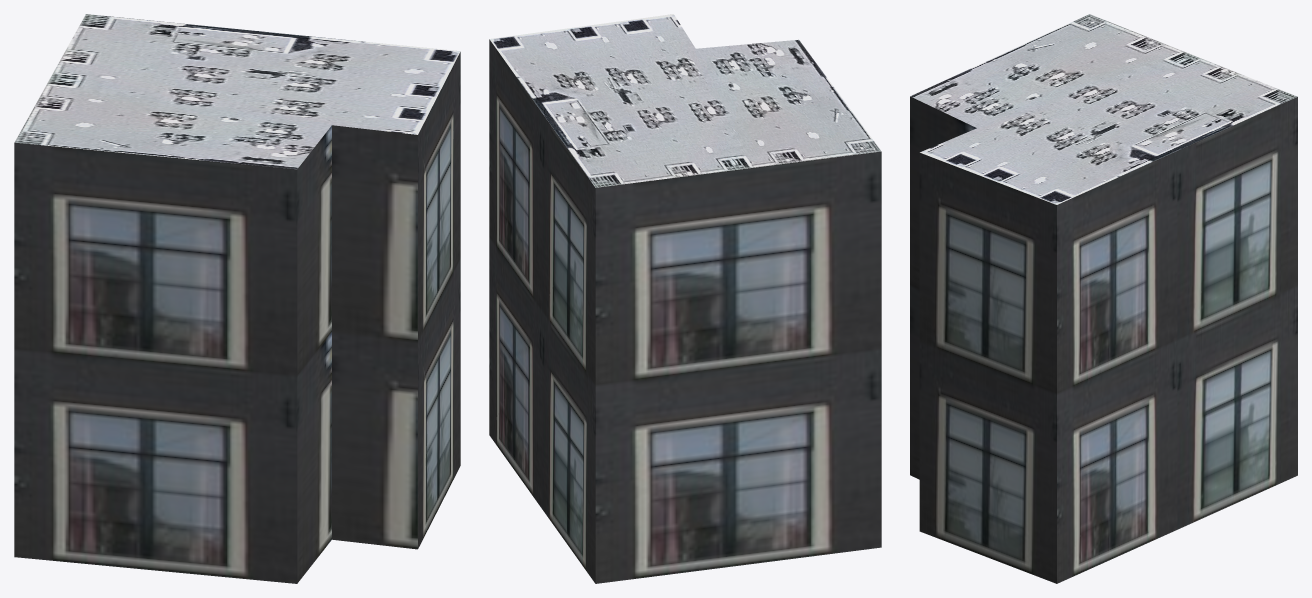
Rendered from ResTex__4522.fbx.
3 views of the same model, side by side, from view 1: azimuth 30°, elevation 25°; view 2: azimuth 150°, elevation 25°; view 3: azimuth 270°, elevation 25° (orthographic). The views are drawn at different scales.
Visible parts, largest first — view 1: CityEngineMaterial_22_m, CityEngineMaterial_m; view 2: CityEngineMaterial_22_m, CityEngineMaterial_m; view 3: CityEngineMaterial_22_m, CityEngineMaterial_m.
Part boxes in pixels (box(x1,y1,x2,y2)): CityEngineMaterial_22_m: box(14, 52, 460, 583); CityEngineMaterial_m: box(14, 14, 460, 169); CityEngineMaterial_22_m: box(489, 39, 881, 583); CityEngineMaterial_m: box(489, 14, 881, 187); CityEngineMaterial_22_m: box(910, 96, 1297, 583); CityEngineMaterial_m: box(910, 14, 1297, 204).
Bounding box in the file's own units: 6.49 × 6 × 5.57.
2 materials, 2 textured.
